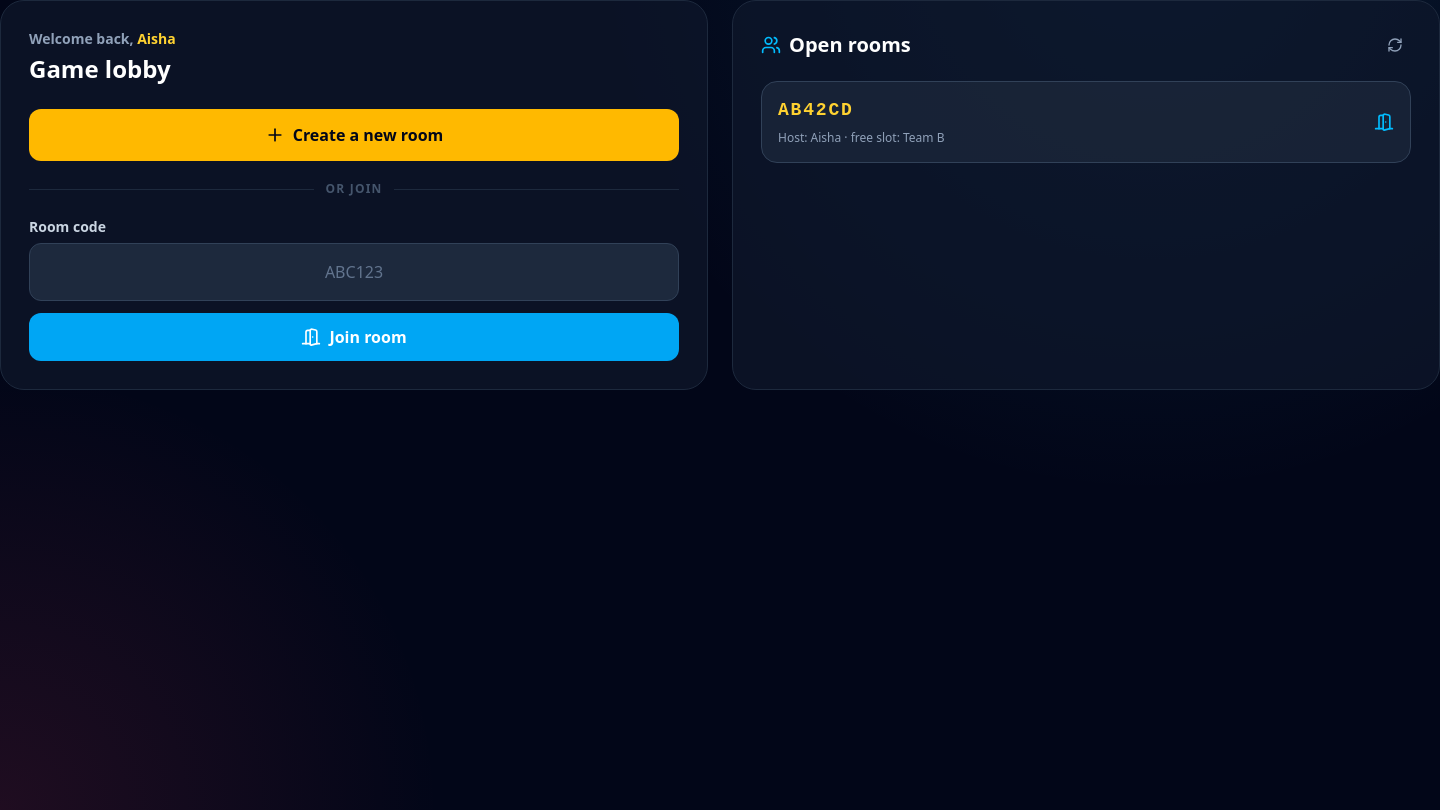
Test case: <LobbyPanel /> › shows a friendly message when the room is full
Type "FULL99" into the field labelled "Room code".
click(354, 272); type("FULL99")  # box 29,243 -> 679,301
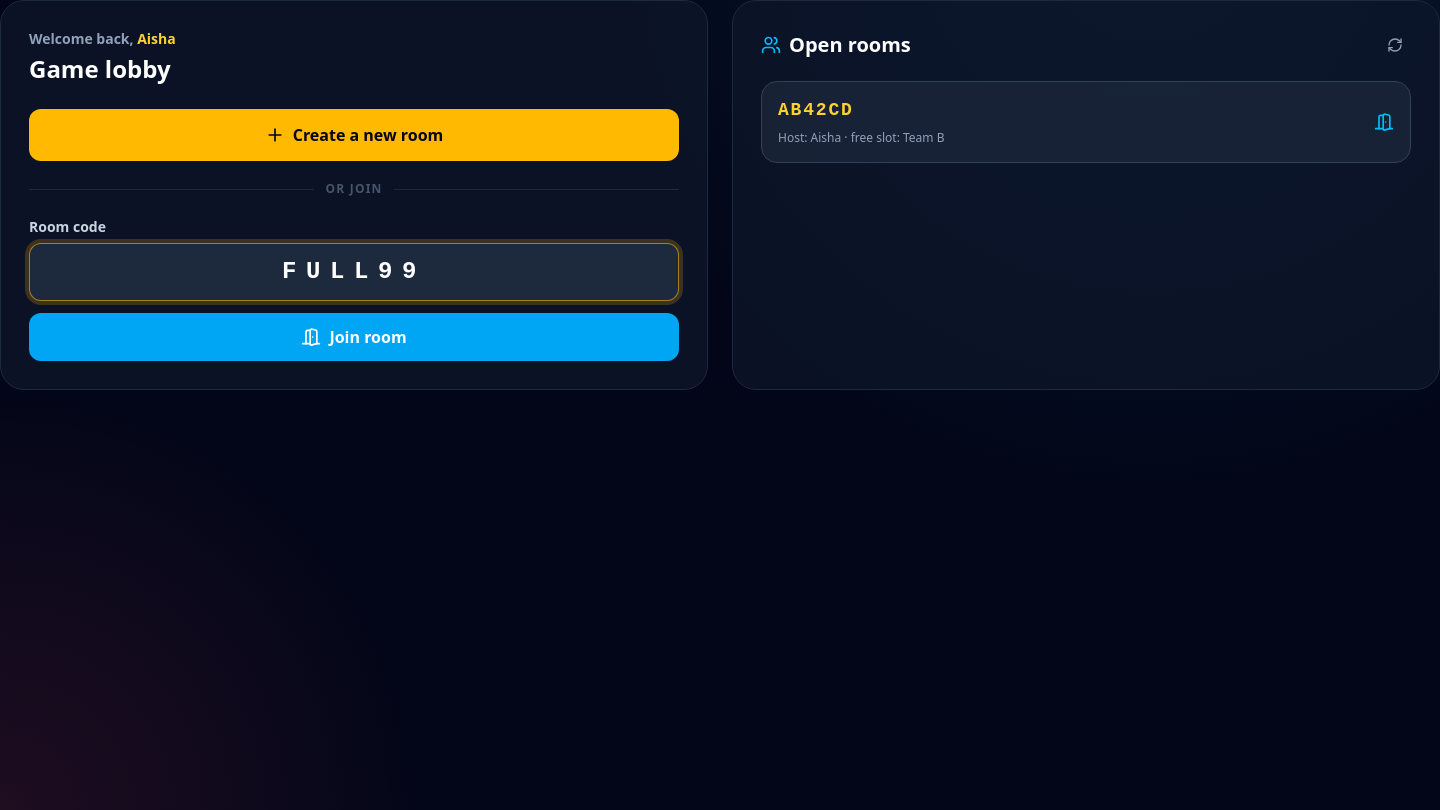
Click the button "Join room".
click(354, 337)  # box 29,313 -> 679,361
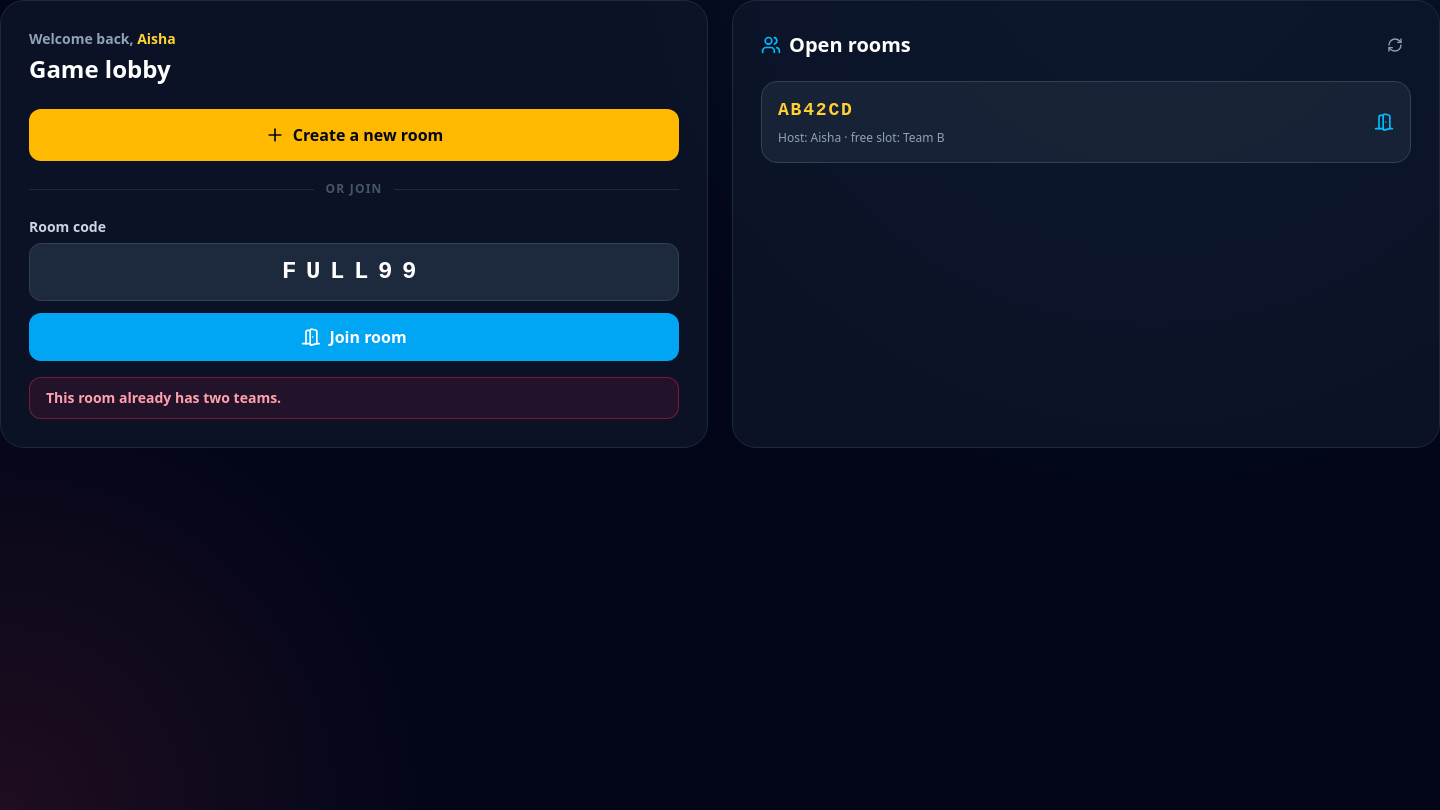
Expected: the message shows "already has two teams", 46,388 -> 281,407
